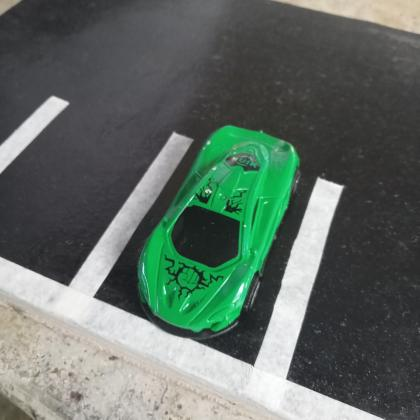Car: (139, 124, 301, 339)
